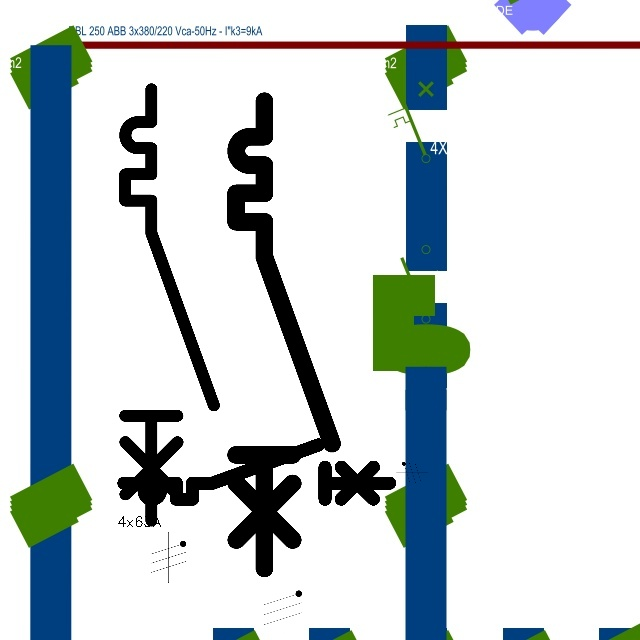interruptor_termomagnetico: (224, 89, 344, 580), (114, 78, 225, 532), (117, 438, 396, 506)
